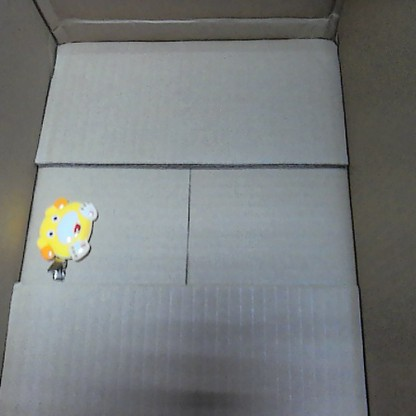dogclip: (35, 193, 98, 279)
